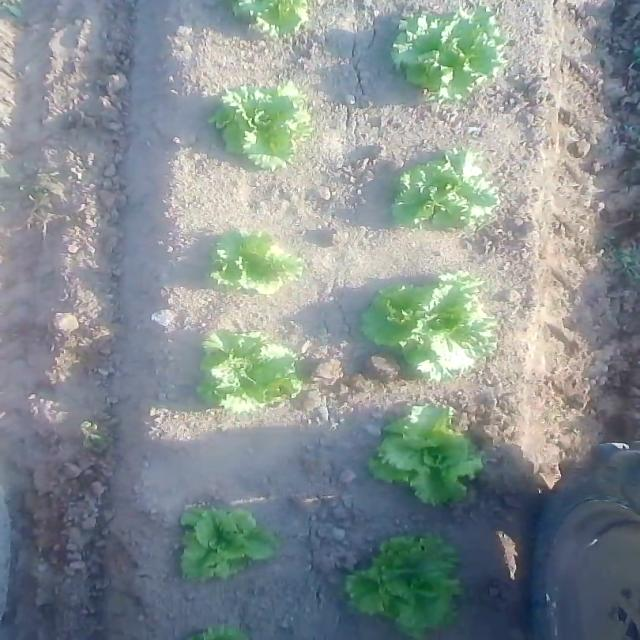Lettuce-Ready-to-Harvest: (358, 269, 498, 382), (366, 401, 486, 504), (349, 532, 464, 636), (209, 81, 317, 174), (192, 327, 301, 414), (392, 151, 500, 234), (179, 503, 273, 585), (207, 226, 304, 295)
